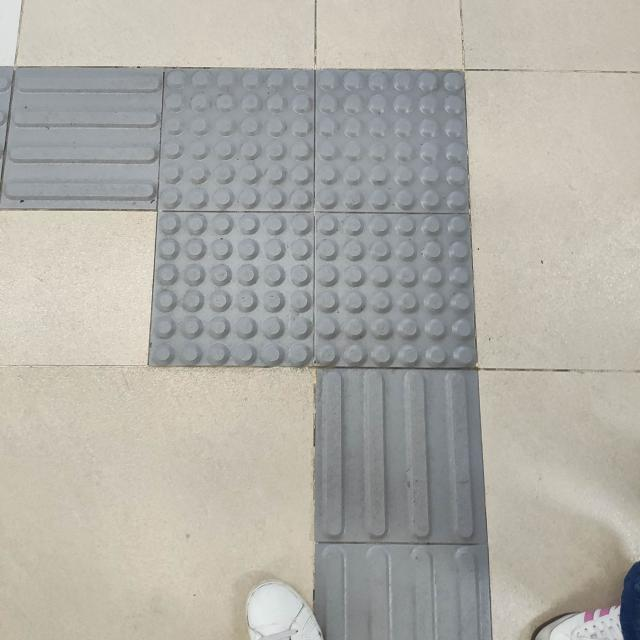kiri: (0, 0, 540, 459)
